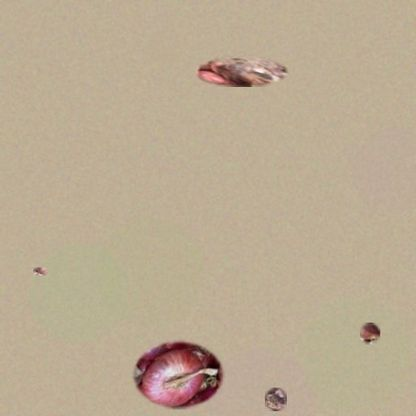healthy: (131, 340, 225, 410)
rotten: (193, 56, 290, 87), (265, 388, 287, 411)
sprouted: (360, 323, 380, 344), (33, 267, 47, 275)
